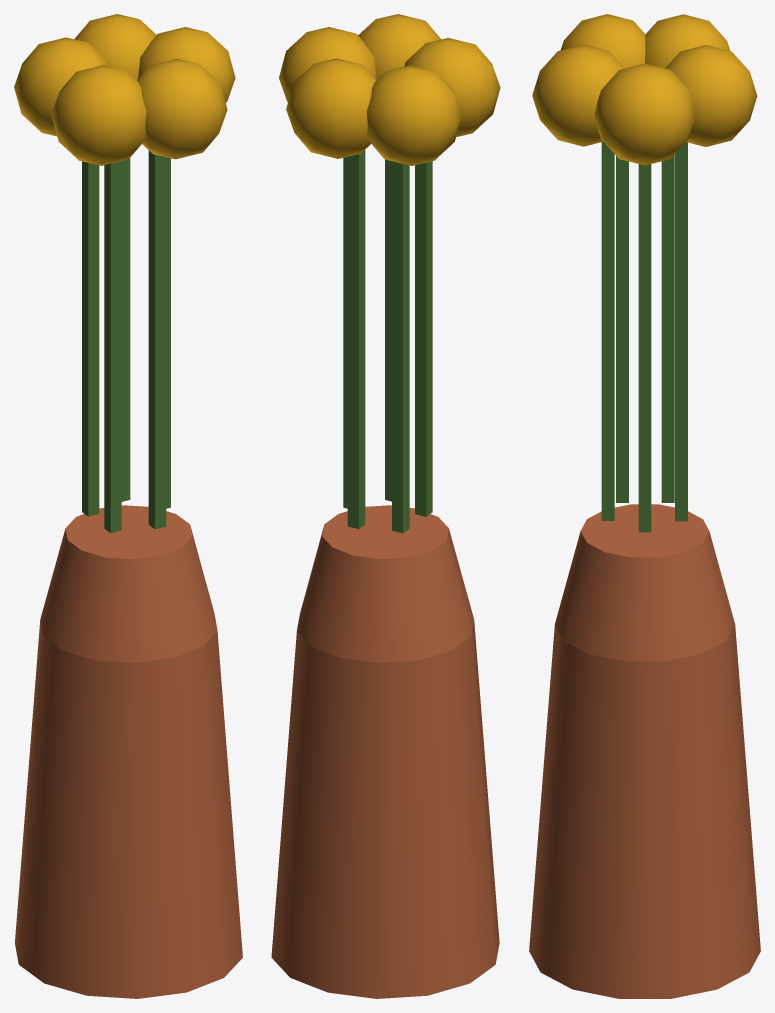
Rendered from vase.obj.
3 views of the same model, side by side, from view 1: azimuth 30°, elevation 25°; view 2: azimuth 150°, elevation 25°; view 3: azimuth 270°, elevation 25° (orthographic).
Visible parts, largest first — view 1: vase_0, vase_1, vase_7, vase_4, vase_5, vase_6, vase_8, vase_9, vase_10, vase_3, vase_11, vase_2; view 2: vase_0, vase_1, vase_9, vase_10, vase_11, vase_8, vase_6, vase_7, vase_3, vase_5, vase_4, vase_2; view 3: vase_0, vase_1, vase_3, vase_5, vase_11, vase_4, vase_2, vase_10, vase_8, vase_6, vase_7, vase_9.
Boxes of the visible parts, <box> form: vase_0: <box>15,621,242,998</box>; vase_1: <box>40,505,217,662</box>; vase_7: <box>51,65,146,165</box>; vase_4: <box>148,150,166,529</box>; vase_5: <box>137,58,227,159</box>; vase_6: <box>104,161,121,533</box>; vase_8: <box>82,161,99,516</box>; vase_9: <box>14,37,110,136</box>; vase_10: <box>121,158,130,501</box>; vase_3: <box>138,27,235,102</box>; vase_11: <box>74,14,156,80</box>; vase_2: <box>166,157,170,508</box>; vase_0: <box>271,620,499,998</box>; vase_1: <box>297,505,473,662</box>; vase_9: <box>367,65,461,165</box>; vase_10: <box>347,150,365,528</box>; vase_11: <box>286,58,376,158</box>; vase_8: <box>392,161,409,533</box>; vase_6: <box>415,161,432,516</box>; vase_7: <box>404,38,500,136</box>; vase_3: <box>279,27,376,101</box>; vase_5: <box>358,14,440,79</box>; vase_4: <box>385,159,391,501</box>; vase_2: <box>343,157,347,508</box>; vase_0: <box>529,624,760,998</box>; vase_1: <box>555,504,734,661</box>; vase_3: <box>594,63,694,165</box>; vase_5: <box>532,44,624,146</box>; vase_11: <box>665,45,757,146</box>; vase_4: <box>601,141,614,520</box>; vase_2: <box>638,164,651,532</box>; vase_10: <box>675,142,687,521</box>; vase_8: <box>661,155,674,502</box>; vase_6: <box>616,156,628,502</box>; vase_7: <box>561,14,645,68</box>; vase_9: <box>645,14,730,68</box>.
Size of the model in its own units: 0.1777 by 0.78 by 0.18.
